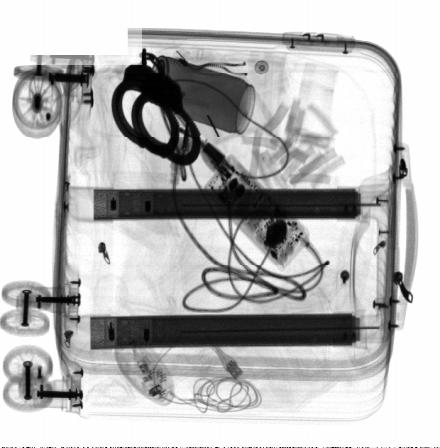HandCuffs: (109, 45, 202, 167)
